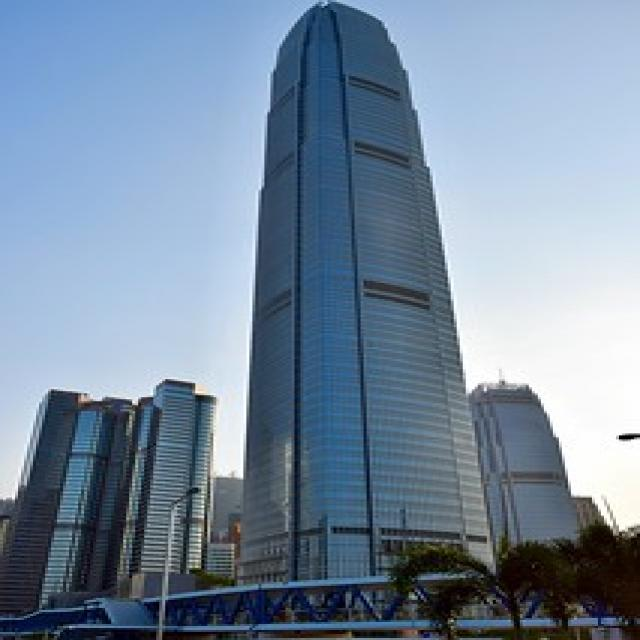Normal_building: (233, 0, 497, 640), (468, 374, 608, 625), (0, 375, 126, 628), (124, 363, 216, 610)
